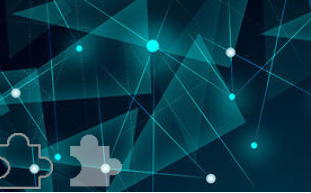target: (65, 131, 125, 189)
